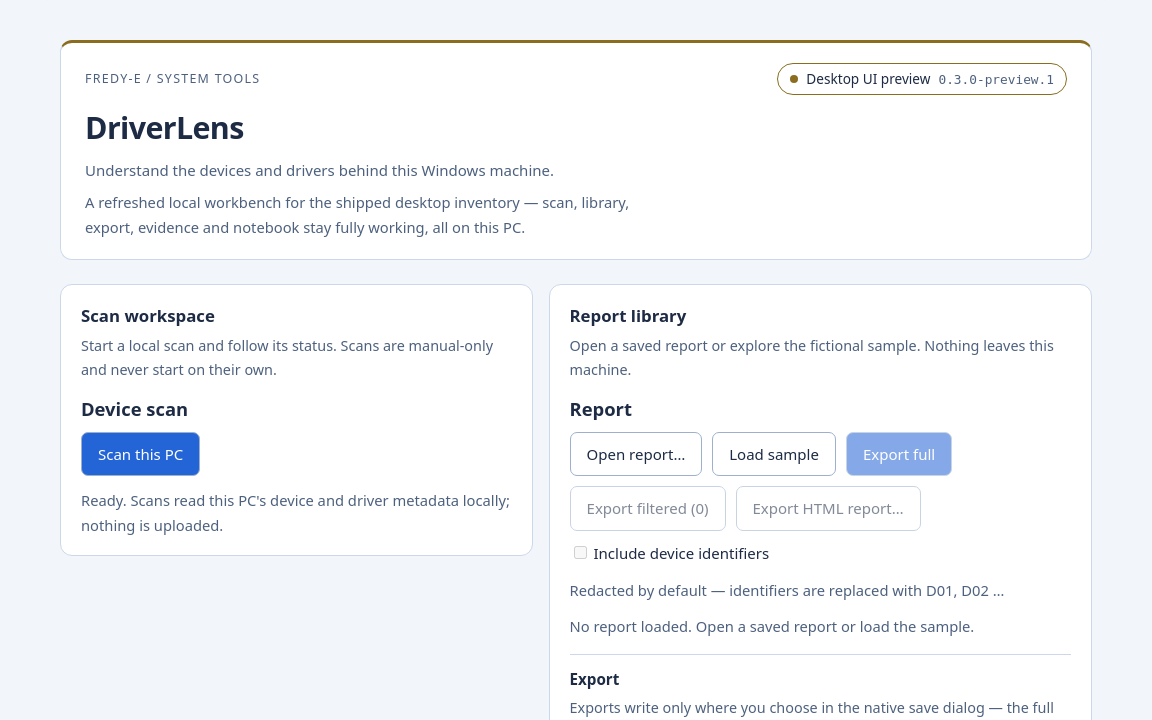
it: App — Export HTML report action state › enables both with a report loaded
This screenshot has width=1152, height=720.
Step 1. Click the button "Load sample" → click(774, 454), box [712,432,836,476]
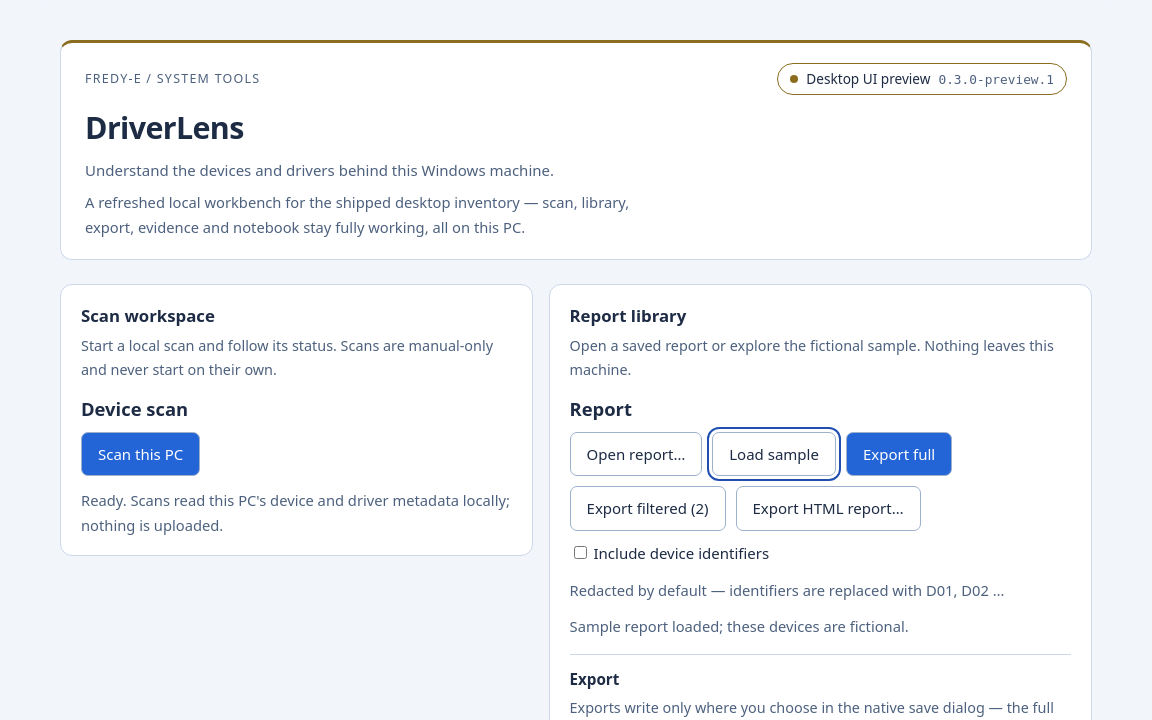
Expected: the text "Sample report loaded; these devices are fictional." is shown, [570,616,909,636]
Expected: the button "Export HTML report…" is enabled, [736,486,920,531]
Expected: the checkbox labelled "Include device identifiers" is enabled, [574,546,586,559]
